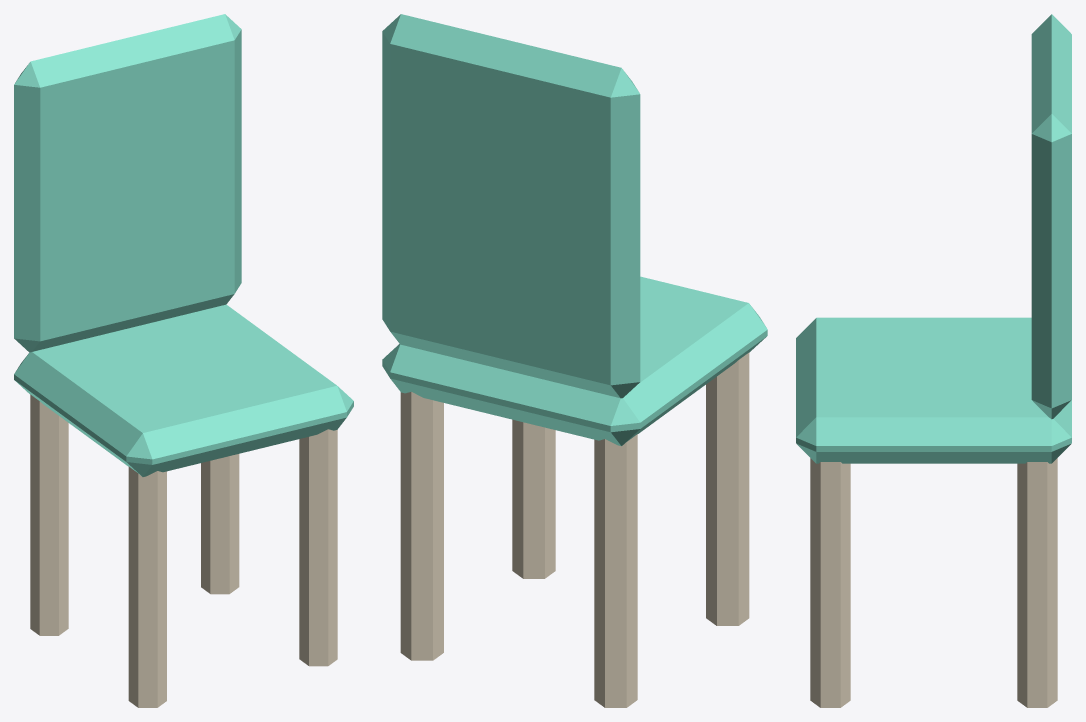
The picture shows the model from 3 angles, left to right: view 1: azimuth 30°, elevation 25°; view 2: azimuth 150°, elevation 25°; view 3: azimuth 270°, elevation 25°; orthographic projection. The views are drawn at different scales.
Visible parts, largest first — view 1: Backrest, Seat, Leg, Leg.002, Leg.001, Leg.003; view 2: Backrest, Seat, Leg.001, Leg.003, Leg, Leg.002; view 3: Seat, Backrest, Leg.002, Leg.003.
Boxes of the visible parts, box(x1,y1,x2,y2) form: Backrest: box(14, 14, 241, 352); Seat: box(14, 304, 353, 476); Leg: box(128, 466, 166, 707); Leg.002: box(299, 429, 337, 666); Leg.001: box(30, 394, 68, 635); Leg.003: box(201, 454, 239, 594); Backrest: box(382, 14, 640, 398); Seat: box(382, 276, 767, 446); Leg.001: box(594, 434, 637, 707); Leg.003: box(400, 391, 443, 660); Leg: box(706, 352, 749, 625); Leg.002: box(512, 419, 555, 578); Seat: box(796, 317, 1071, 463); Backrest: box(1031, 14, 1071, 419); Leg.002: box(810, 458, 850, 707); Leg.003: box(1017, 458, 1057, 707).
Bounding box in the file's own units: 43.2 × 102 × 43.2.
